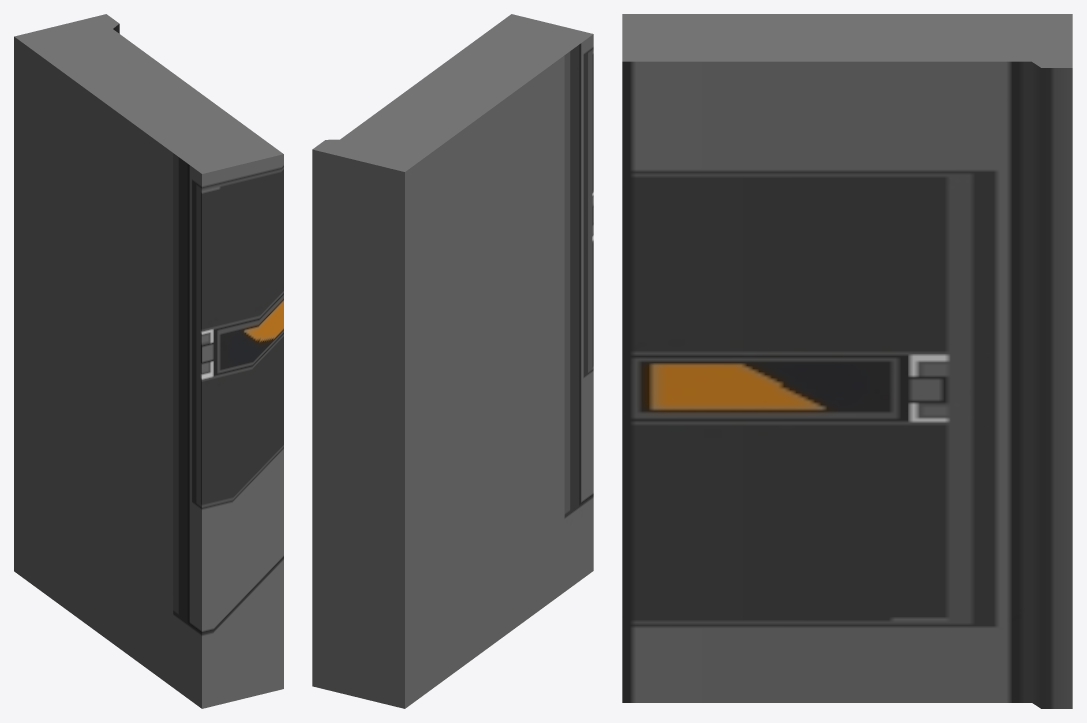
The model's file is Door_Big_Left.fbx.
3 renders of one model, left to right at view 1: azimuth 30°, elevation 25°; view 2: azimuth 150°, elevation 25°; view 3: azimuth 270°, elevation 25°, orthographic. The views are drawn at different scales.
Parts seen in each view (by area): view 1: Door_Big_Left; view 2: Door_Big_Left; view 3: Door_Big_Left.
Part boxes in pixels (<box>): Door_Big_Left: <box>14,14,283,708</box>; Door_Big_Left: <box>312,14,593,708</box>; Door_Big_Left: <box>622,14,1072,708</box>.
Size of the model in its own units: 0.5622 by 3.11 by 1.98.
1 material, 1 textured.
